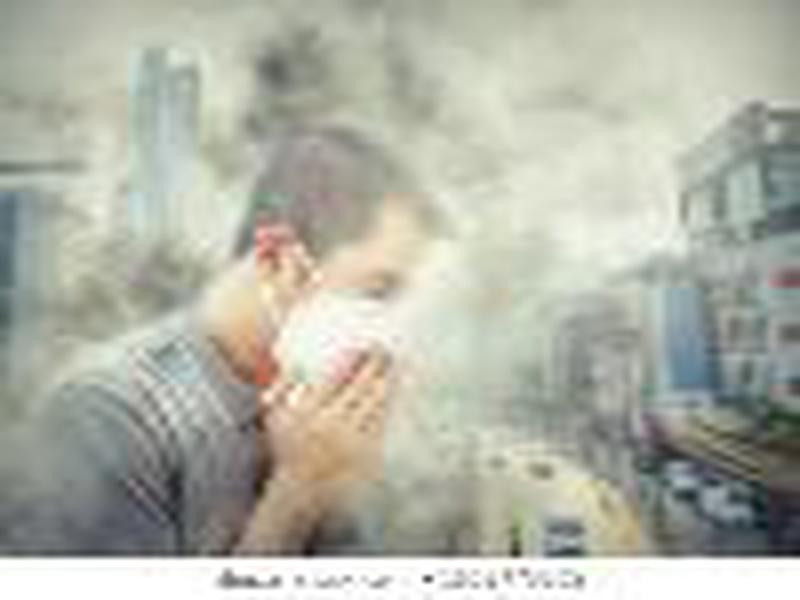with_mask: (226, 126, 435, 391)
